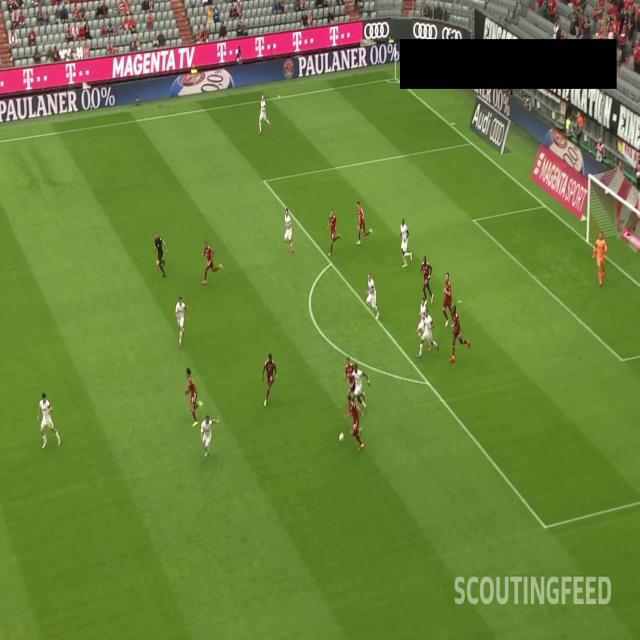ball: (335, 430, 346, 444)
player: (338, 347, 363, 415), (36, 391, 61, 450), (181, 366, 203, 428), (448, 306, 471, 362), (198, 239, 225, 285), (346, 392, 366, 454), (590, 230, 610, 292), (416, 307, 438, 358), (261, 351, 280, 408), (348, 364, 370, 413), (353, 200, 374, 249), (396, 217, 415, 269), (440, 270, 457, 328), (199, 412, 220, 458), (173, 296, 191, 349), (416, 299, 434, 350), (418, 253, 435, 305), (364, 271, 380, 322), (325, 206, 340, 258), (280, 205, 295, 256), (256, 91, 272, 136)
referee: (153, 227, 169, 278)
